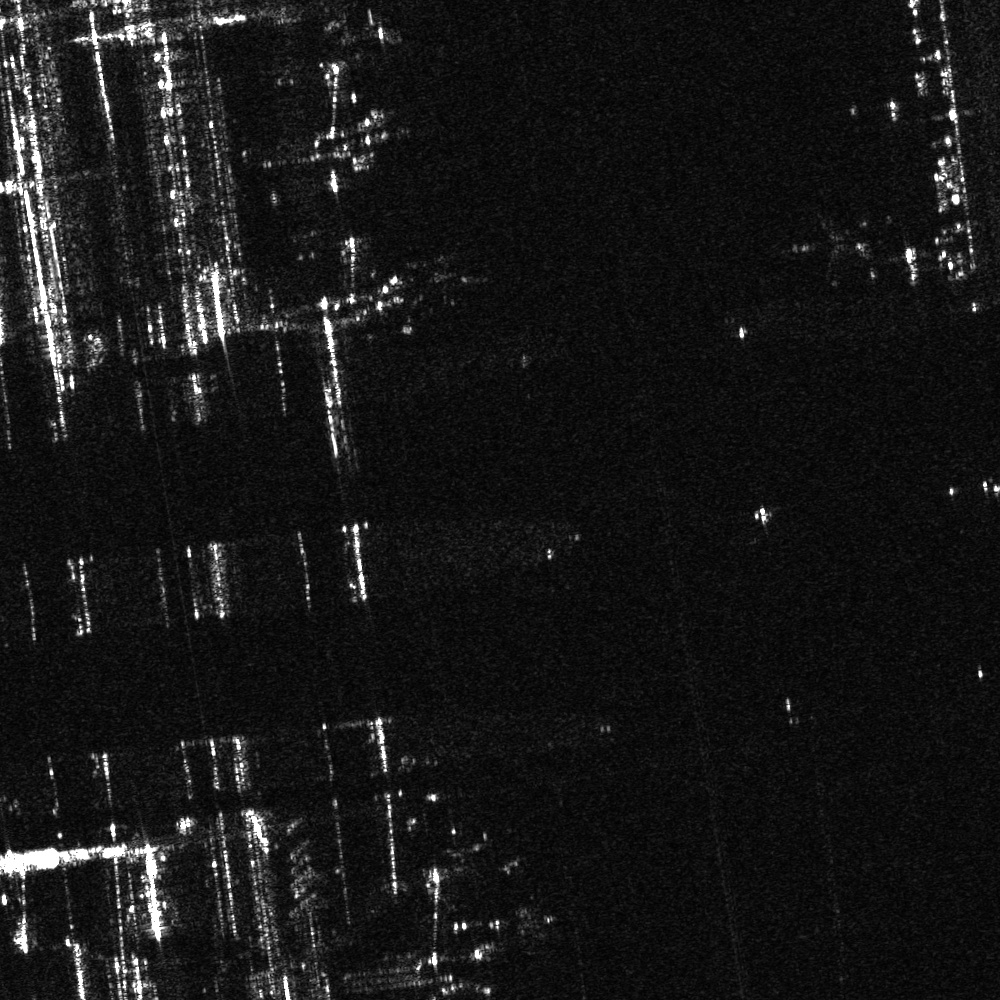Boeing737: (402, 250, 467, 308)
Boeing787: (786, 209, 858, 285)
